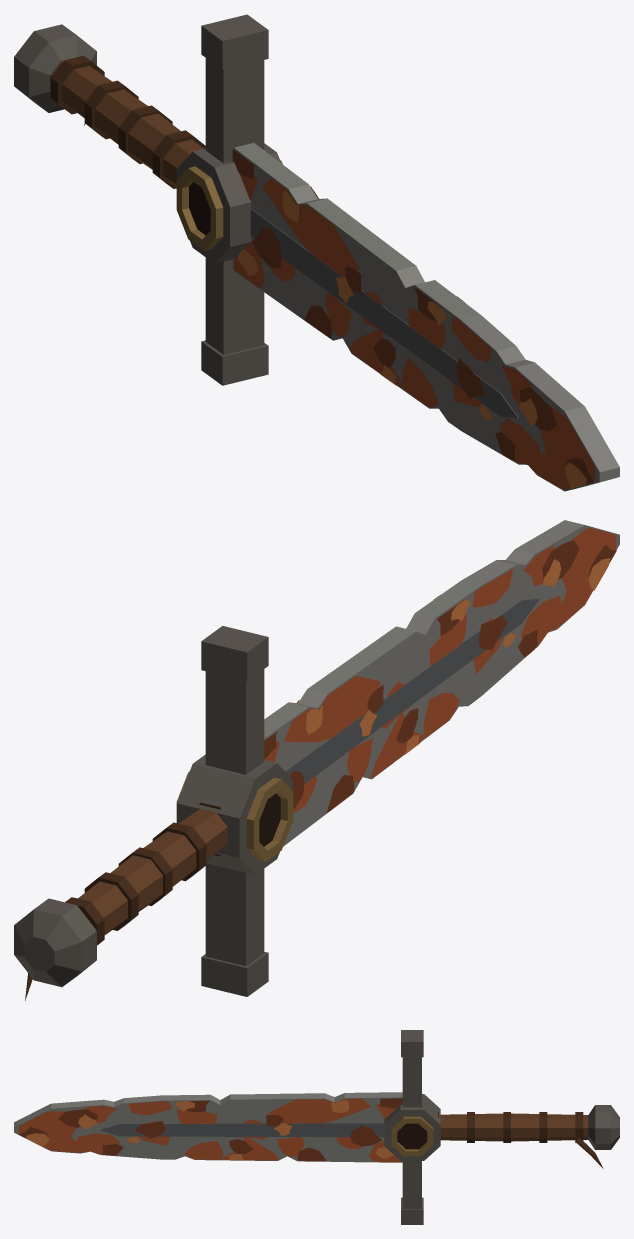
The model's file is w1_relicweapons.fbx.
The picture shows the model from 3 angles, top to bottom: view 1: azimuth 30°, elevation 25°; view 2: azimuth 150°, elevation 25°; view 3: azimuth 270°, elevation 25°; orthographic projection. The views are drawn at different scales.
Visible parts, largest first — view 1: RustyBlade.Blade, RustyBlade.Guard, RustyBlade.Rust, RustyBlade.Fuller, RustyBlade.Grip, RustyBlade.RustDark, RustyBlade.Pommel, RustyBlade.Wrap, RustyBlade.SocketRim, RustyBlade.RustLight, RustyBlade.Socket; view 2: RustyBlade.Guard, RustyBlade.Blade, RustyBlade.Rust, RustyBlade.Grip, RustyBlade.Pommel, RustyBlade.Fuller, RustyBlade.RustDark, RustyBlade.Wrap, RustyBlade.SocketRim, RustyBlade.RustLight, RustyBlade.Socket; view 3: RustyBlade.Blade, RustyBlade.Rust, RustyBlade.Guard, RustyBlade.Grip, RustyBlade.Fuller, RustyBlade.RustDark, RustyBlade.Pommel, RustyBlade.RustLight, RustyBlade.Wrap, RustyBlade.SocketRim, RustyBlade.Socket.
Part boxes in pixels (x1,y1,x2,y2): RustyBlade.Blade: [234, 143, 619, 491]; RustyBlade.Guard: [177, 14, 280, 385]; RustyBlade.Rust: [233, 153, 594, 489]; RustyBlade.Fuller: [250, 208, 518, 417]; RustyBlade.Grip: [50, 60, 203, 186]; RustyBlade.RustDark: [232, 149, 593, 484]; RustyBlade.Pommel: [14, 24, 96, 112]; RustyBlade.Wrap: [50, 55, 205, 188]; RustyBlade.SocketRim: [176, 160, 282, 250]; RustyBlade.RustLight: [238, 186, 586, 488]; RustyBlade.Socket: [189, 182, 210, 235]; RustyBlade.Guard: [177, 626, 292, 996]; RustyBlade.Blade: [264, 520, 619, 846]; RustyBlade.Rust: [264, 527, 616, 812]; RustyBlade.Grip: [78, 808, 227, 934]; RustyBlade.Pommel: [14, 898, 96, 987]; RustyBlade.Fuller: [285, 598, 539, 783]; RustyBlade.RustDark: [264, 540, 616, 812]; RustyBlade.Wrap: [25, 802, 220, 1000]; RustyBlade.SocketRim: [176, 771, 293, 862]; RustyBlade.RustLight: [296, 558, 610, 754]; RustyBlade.Socket: [259, 793, 280, 846]; RustyBlade.Blade: [14, 1092, 402, 1162]; RustyBlade.Rust: [18, 1098, 402, 1162]; RustyBlade.Guard: [384, 1030, 440, 1224]; RustyBlade.Grip: [440, 1113, 588, 1141]; RustyBlade.Fuller: [100, 1123, 384, 1137]; RustyBlade.RustDark: [19, 1098, 402, 1161]; RustyBlade.Pommel: [588, 1105, 619, 1149]; RustyBlade.RustLight: [26, 1100, 393, 1160]; RustyBlade.Wrap: [438, 1112, 603, 1168]; RustyBlade.SocketRim: [391, 1116, 433, 1156]; RustyBlade.Socket: [397, 1123, 427, 1149].
Size of the model in its own units: 0.42 by 1.79 by 5.37.
